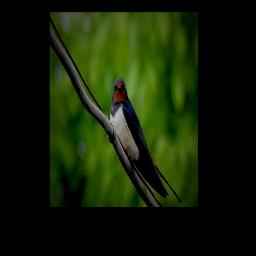Swallow: (109, 77, 183, 204)
